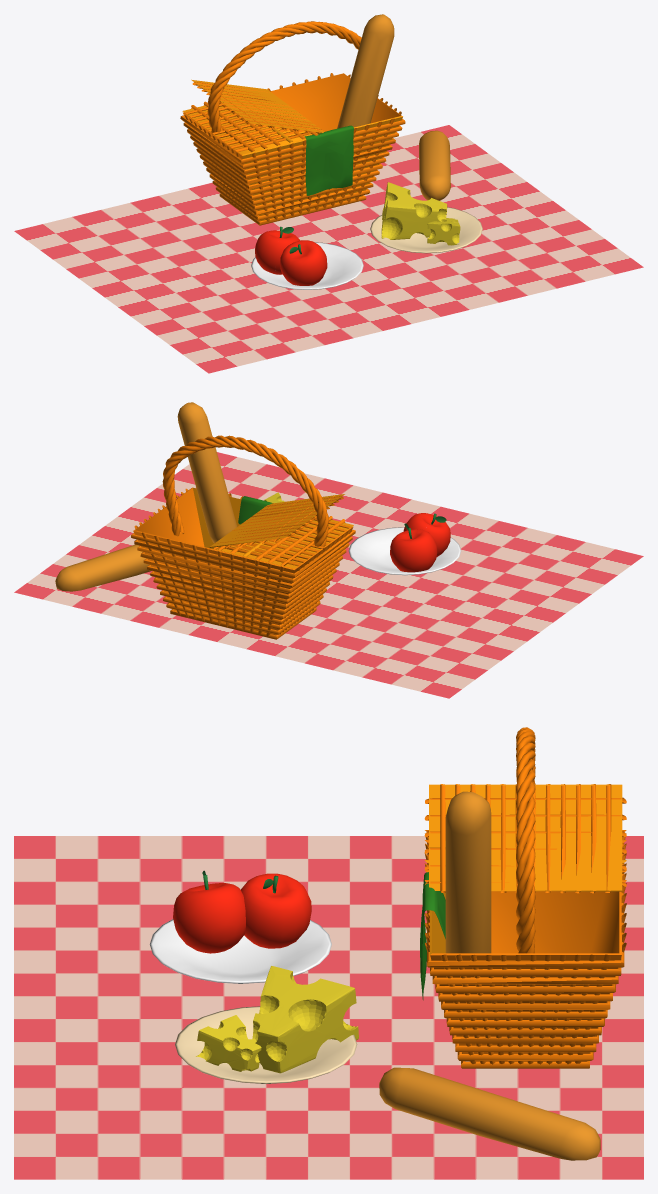
The model's file is picnic3.fbx.
3 views of the same model, one above another, from view 1: azimuth 30°, elevation 25°; view 2: azimuth 150°, elevation 25°; view 3: azimuth 270°, elevation 25° (orthographic). The views are drawn at different scales.
Visible parts, largest first — view 1: clothes.001, clothes.003, clothes, clothes.021, clothes.017, clothes.018, clothes.020, clothes.002, clothes.004, clothes.012, clothes.006, clothes.019; view 2: clothes.001, clothes.003, clothes, clothes.021, clothes.020, clothes.002, clothes.006, clothes.012, clothes.017; view 3: clothes.001, clothes.003, clothes, clothes.020, clothes.018, clothes.021, clothes.002, clothes.004, clothes.012, clothes.006, clothes.019, clothes.017.
Boxes of the visible parts, <box> form: clothes.001: <box>14,125,643,373</box>; clothes.003: <box>180,21,405,225</box>; clothes: <box>182,79,402,220</box>; clothes.021: <box>337,14,394,128</box>; clothes.017: <box>304,125,353,195</box>; clothes.018: <box>381,182,447,239</box>; clothes.020: <box>419,130,450,200</box>; clothes.002: <box>251,242,363,289</box>; clothes.004: <box>370,207,482,253</box>; clothes.012: <box>280,240,327,285</box>; clothes.006: <box>255,230,299,274</box>; clothes.019: <box>427,218,460,245</box>; clothes.001: <box>14,452,643,698</box>; clothes.003: <box>131,435,355,639</box>; clothes: <box>193,487,353,568</box>; clothes.021: <box>177,402,237,543</box>; clothes.020: <box>55,544,151,591</box>; clothes.002: <box>348,527,461,575</box>; clothes.006: <box>390,529,437,572</box>; clothes.012: <box>403,513,450,556</box>; clothes.017: <box>238,496,272,524</box>; clothes.001: <box>14,836,643,1179</box>; clothes.003: <box>424,727,626,1068</box>; clothes: <box>424,784,626,954</box>; clothes.020: <box>379,1067,600,1160</box>; clothes.018: <box>252,966,358,1073</box>; clothes.021: <box>445,791,491,953</box>; clothes.002: <box>149,919,331,983</box>; clothes.004: <box>175,1006,357,1083</box>; clothes.012: <box>173,883,245,953</box>; clothes.006: <box>241,873,311,948</box>; clothes.019: <box>195,1015,261,1071</box>; clothes.017: <box>420,872,445,1000</box>.
Size of the model in its own units: 415 by 171 by 321.
7 materials, 2 textured.
